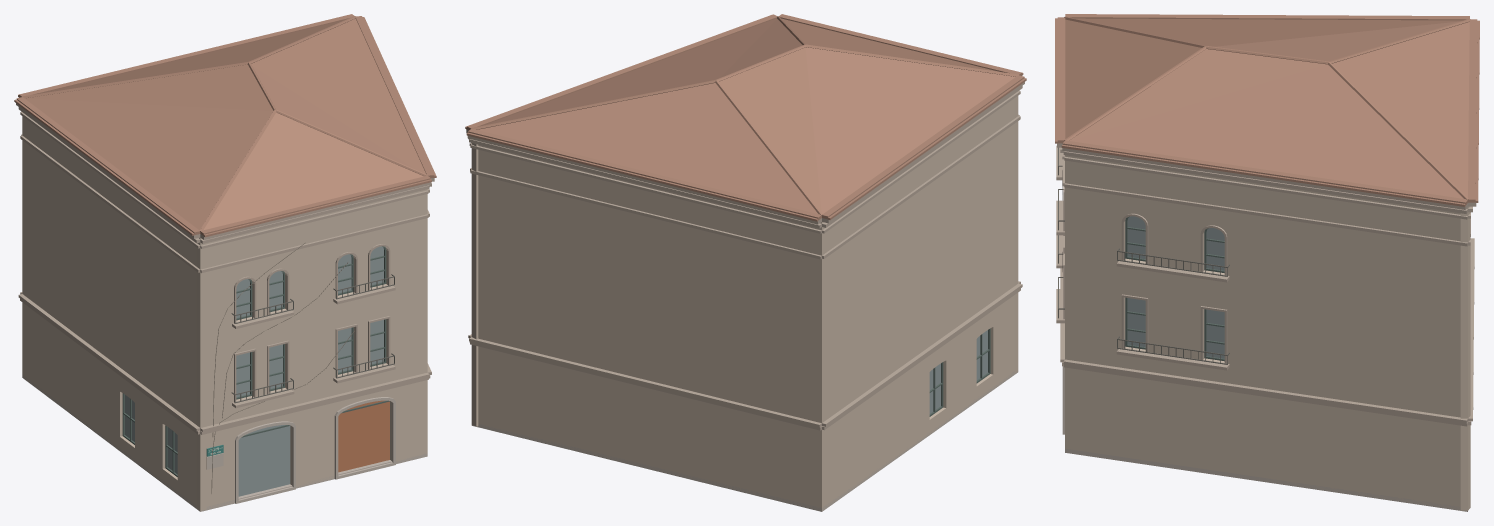
Rendered from xuhui-huaihai-road-1768-residence-lod.glb.
3 renders of one model, left to right at view 1: azimuth 30°, elevation 25°; view 2: azimuth 150°, elevation 25°; view 3: azimuth 270°, elevation 25°, orthographic. The views are drawn at different scales.
Visible parts, largest first — view 1: 霞飞别墅淮海中路1768弄口临街住宅; view 2: 霞飞别墅淮海中路1768弄口临街住宅; view 3: 霞飞别墅淮海中路1768弄口临街住宅.
Boxes of the visible parts, <box> form: 霞飞别墅淮海中路1768弄口临街住宅: <box>14,14,436,511</box>; 霞飞别墅淮海中路1768弄口临街住宅: <box>465,14,1026,511</box>; 霞飞别墅淮海中路1768弄口临街住宅: <box>1055,14,1479,511</box>.
Bounding box in the file's own units: 14.68 × 12.86 × 13.83.
